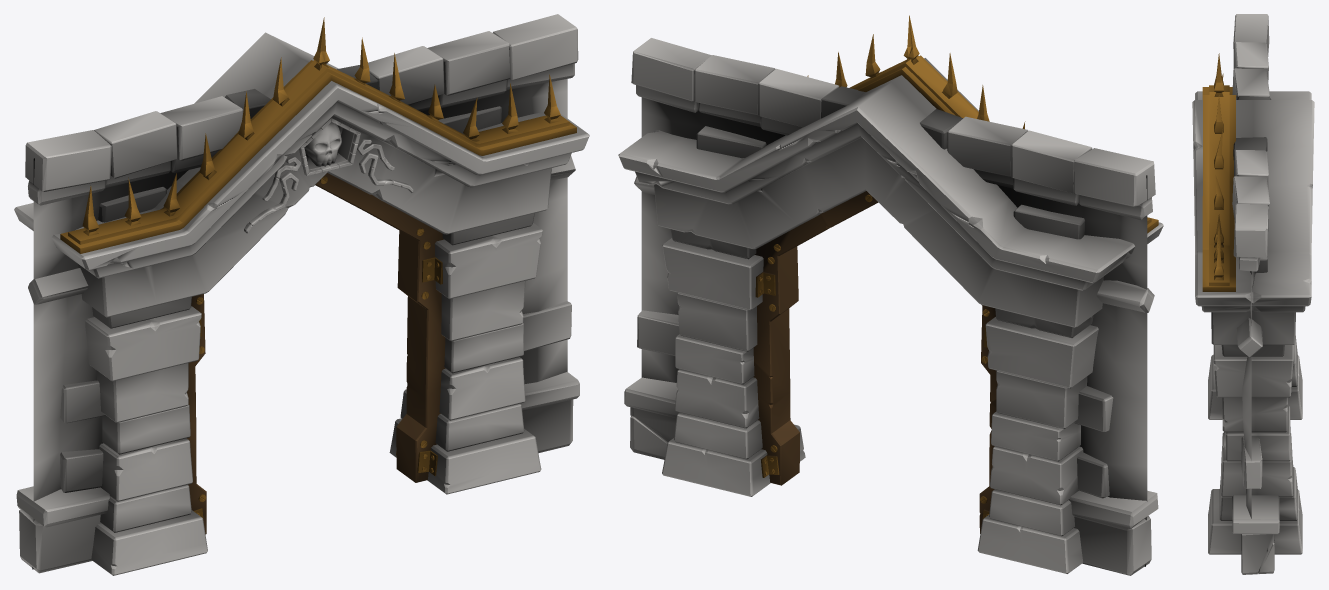
File: wall_archPointy_decorated.FBX
3 views of the same model, side by side, from view 1: azimuth 30°, elevation 25°; view 2: azimuth 150°, elevation 25°; view 3: azimuth 270°, elevation 25° (orthographic). The views are drawn at different scales.
Visible parts, largest first — view 1: wall_archPointy_decorated; view 2: wall_archPointy_decorated; view 3: wall_archPointy_decorated.
Boxes of the visible parts, x1,y1,x2,y2 form: wall_archPointy_decorated: (14,14,589,575); wall_archPointy_decorated: (618,15,1163,575); wall_archPointy_decorated: (1192,14,1314,574).
Size of the model in its own units: 8.06 by 7.2 by 1.92.
